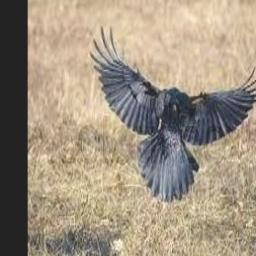Crow: (88, 25, 256, 201)
